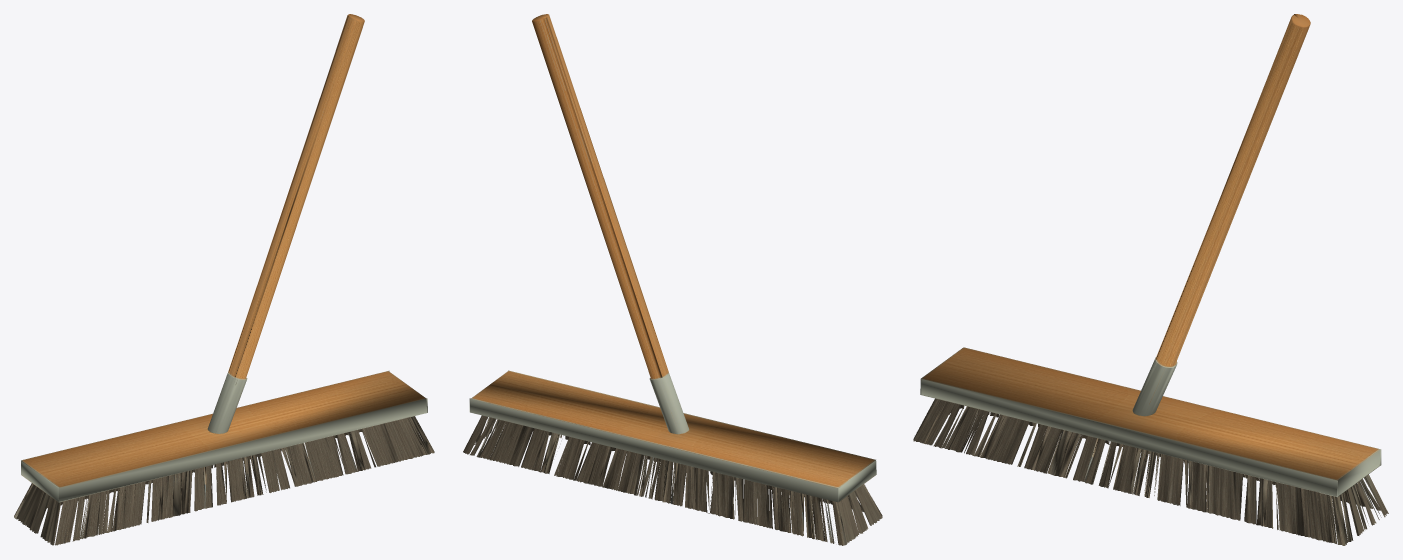
File: push_broom.glb
3 renders of one model, left to right at view 1: azimuth 30°, elevation 25°; view 2: azimuth 150°, elevation 25°; view 3: azimuth 330°, elevation 25°, orthographic. The views are drawn at different scales.
Parts seen in each view (by area): view 1: push_broom; view 2: push_broom; view 3: push_broom.
Part boxes in pixels (x1,y1,x2,y2): push_broom: (14, 14, 434, 545); push_broom: (463, 14, 882, 545); push_broom: (913, 14, 1388, 545).
Size of the model in its own units: 1.24 by 1.35 by 0.2275.
1 material, 1 textured.
